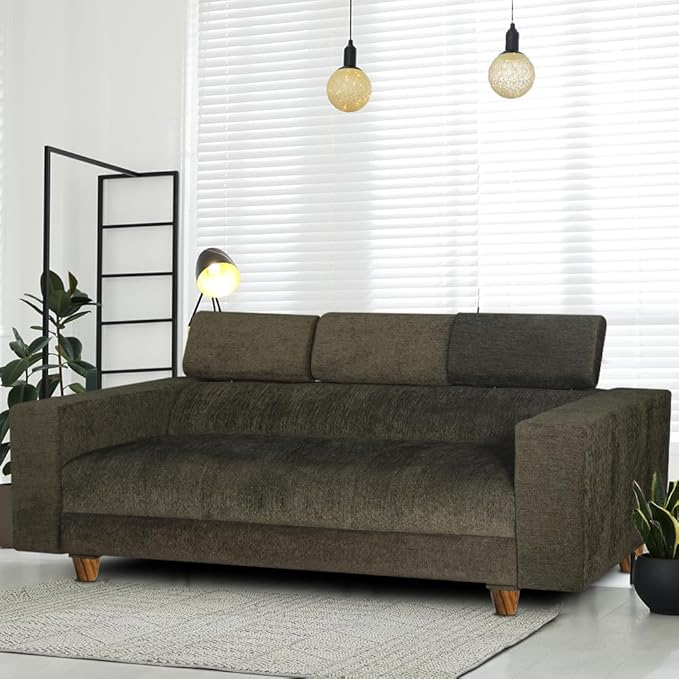3seatersofa: (11, 312, 670, 614)
backrest: (174, 313, 605, 445)
base: (62, 515, 517, 588)
leftarmrest: (509, 390, 669, 590)
leg: (491, 588, 519, 615), (71, 555, 99, 581)
rightarmrest: (11, 378, 184, 552)
seat: (63, 434, 513, 538)
